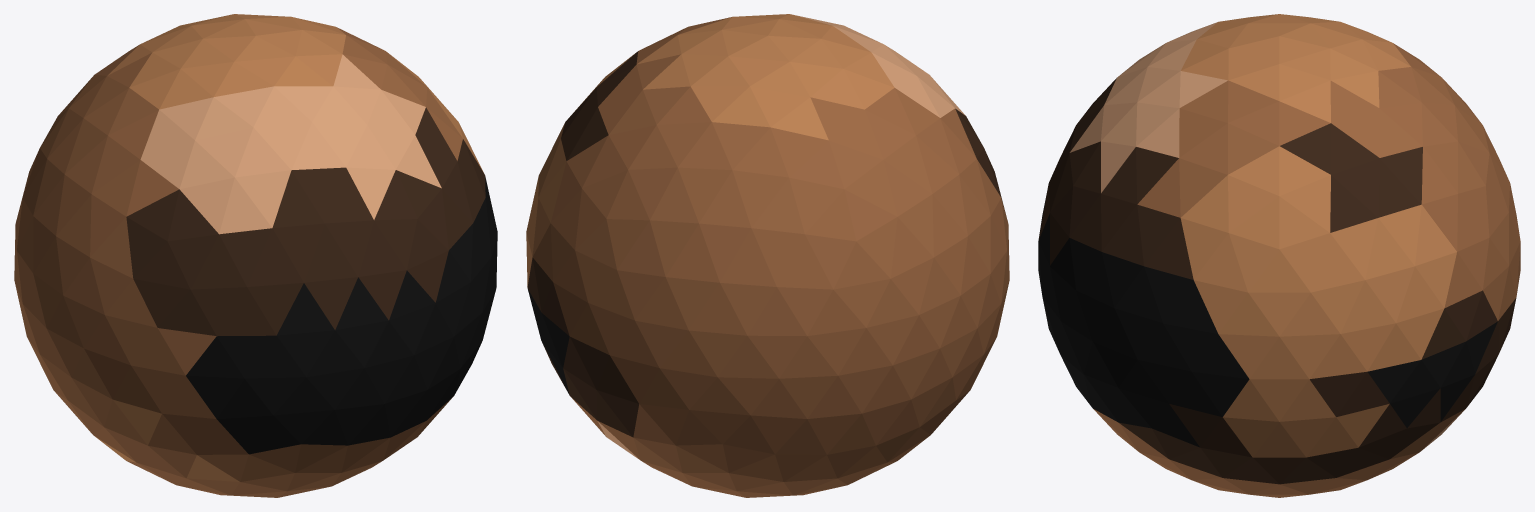
Rendered from plutoed.FBX.
The picture shows the model from 3 angles, left to right: view 1: azimuth 30°, elevation 25°; view 2: azimuth 150°, elevation 25°; view 3: azimuth 270°, elevation 25°; orthographic projection.
Visible parts, largest first — view 1: GeoSphere001; view 2: GeoSphere001; view 3: GeoSphere001.
Part boxes in pixels (x1=…): GeoSphere001: x1=14, y1=14, x2=497, y2=497; GeoSphere001: x1=526, y1=14, x2=1009, y2=497; GeoSphere001: x1=1038, y1=14, x2=1520, y2=497.
Bounding box in the file's own units: 19.91 × 20 × 19.88.
